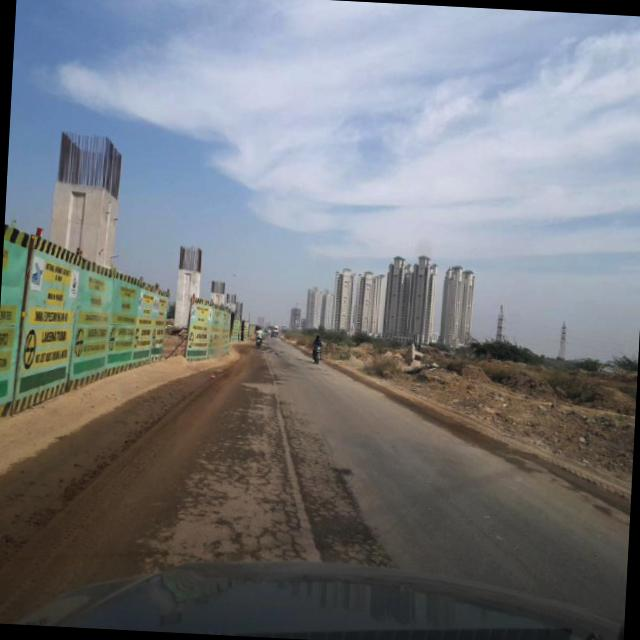crack: (132, 381, 412, 569)
